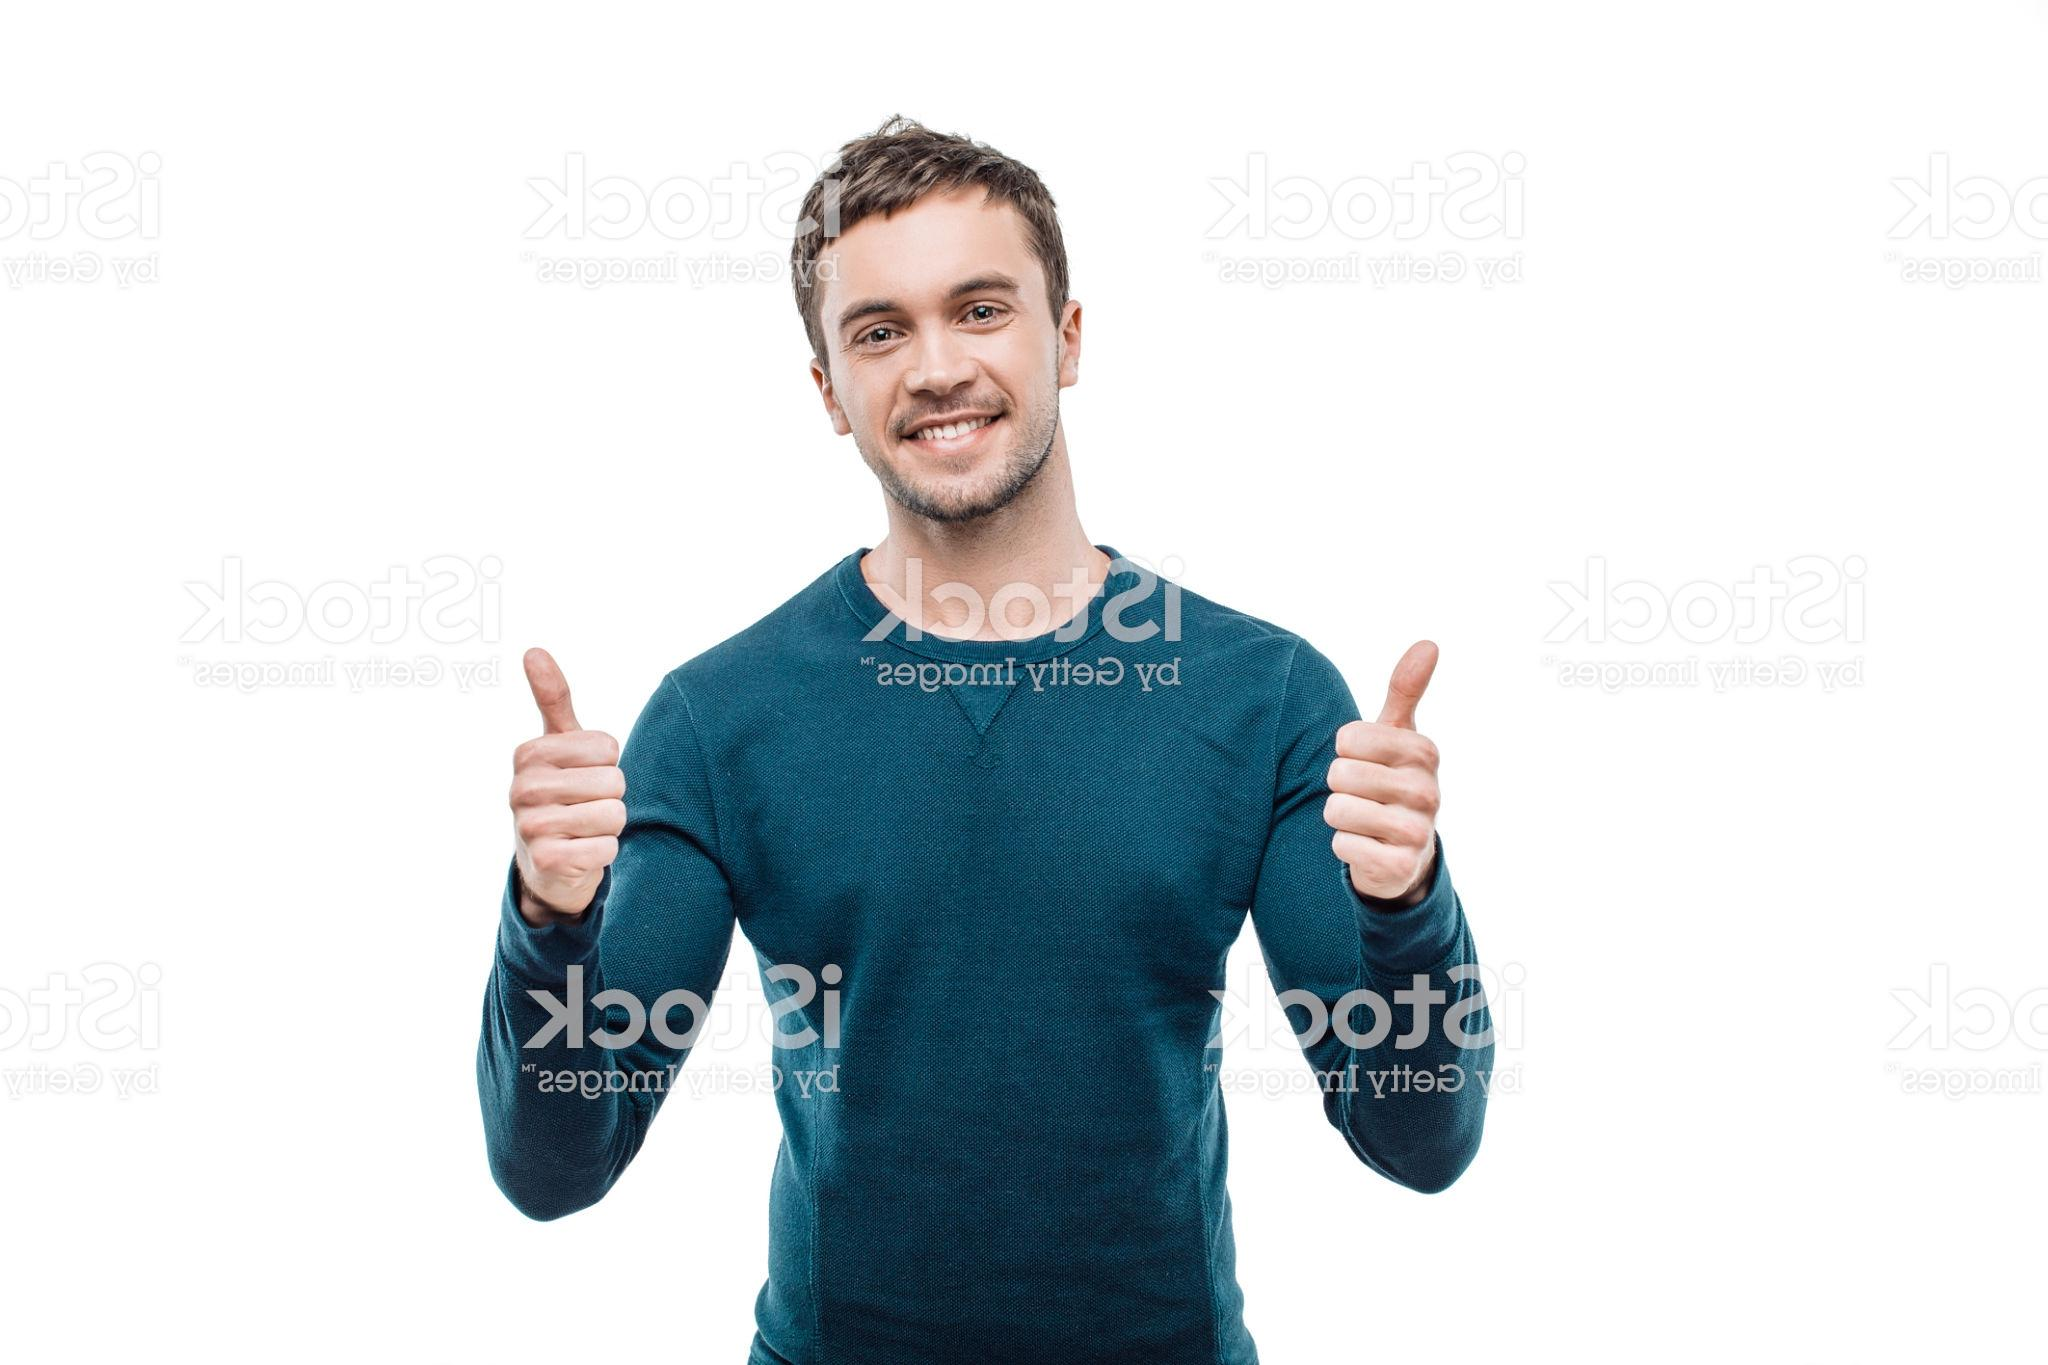thumbsup: (1319, 635, 1447, 894), (507, 644, 632, 900)
